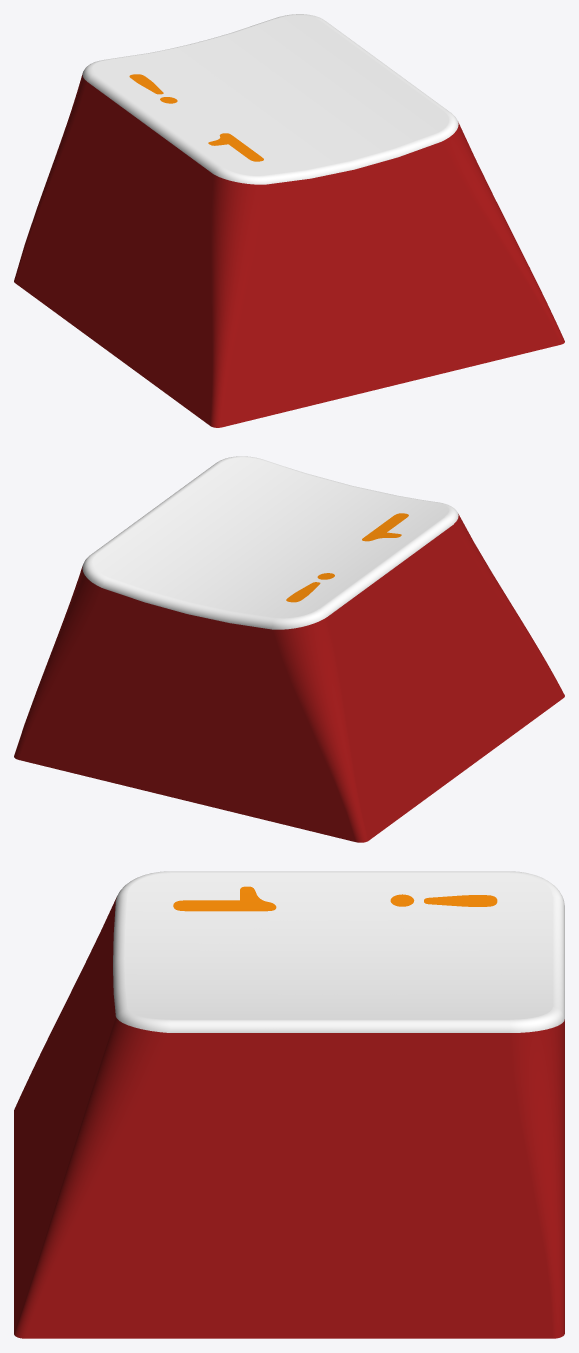
3 views of the same model, one above another, from view 1: azimuth 30°, elevation 25°; view 2: azimuth 150°, elevation 25°; view 3: azimuth 270°, elevation 25° (orthographic). The views are drawn at different scales.
Visible parts, largest first — view 1: Body1; view 2: Body1; view 3: Body1.
Part boxes in pixels (x1,y1,x2,y2): Body1: (14, 14, 564, 427); Body1: (14, 456, 564, 842); Body1: (14, 871, 564, 1338).
Bounding box in the file's own units: 18 × 9.95 × 18.
